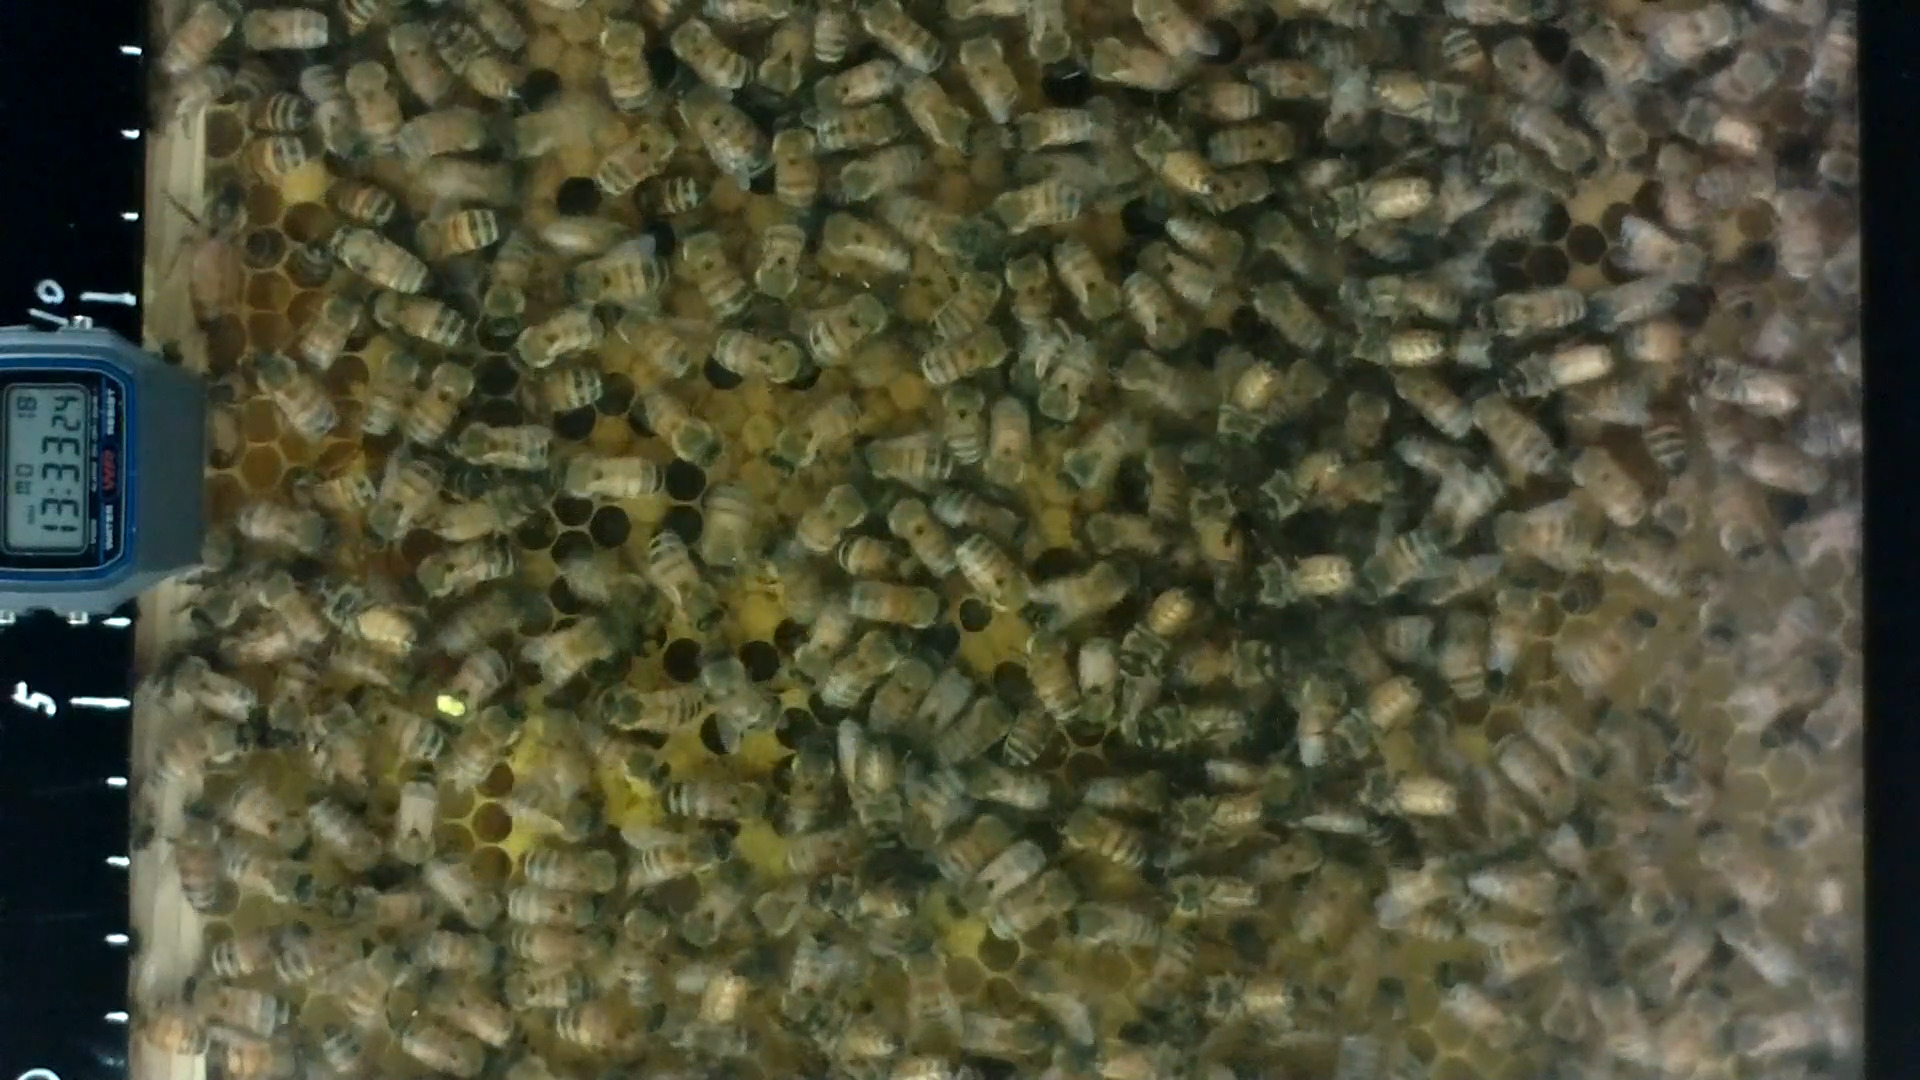hati: (252, 349, 335, 447), (953, 530, 1036, 626), (679, 223, 756, 326), (647, 527, 723, 632), (700, 649, 787, 738), (877, 189, 977, 266), (1046, 233, 1124, 331), (1054, 804, 1153, 881), (667, 15, 757, 98), (513, 616, 604, 698), (1568, 443, 1648, 531), (956, 26, 1029, 124), (810, 289, 891, 373), (564, 239, 669, 305), (1617, 222, 1713, 293), (367, 458, 442, 549), (327, 225, 425, 295), (554, 447, 673, 504), (442, 421, 558, 477), (641, 386, 723, 467), (1076, 40, 1188, 98), (899, 935, 964, 1034), (454, 704, 521, 796), (344, 62, 407, 160), (235, 495, 330, 559), (367, 291, 469, 351), (853, 436, 957, 495), (709, 326, 803, 389), (417, 541, 518, 599), (837, 578, 944, 632), (604, 682, 703, 740), (595, 18, 653, 116), (658, 778, 779, 824), (1025, 626, 1081, 721), (1122, 273, 1188, 353), (513, 313, 603, 371), (516, 844, 625, 891), (771, 117, 825, 212), (634, 831, 731, 882), (604, 121, 673, 193), (992, 186, 1091, 235), (394, 762, 440, 866), (1480, 289, 1585, 331), (760, 218, 802, 319), (945, 377, 992, 467), (818, 103, 899, 146)
